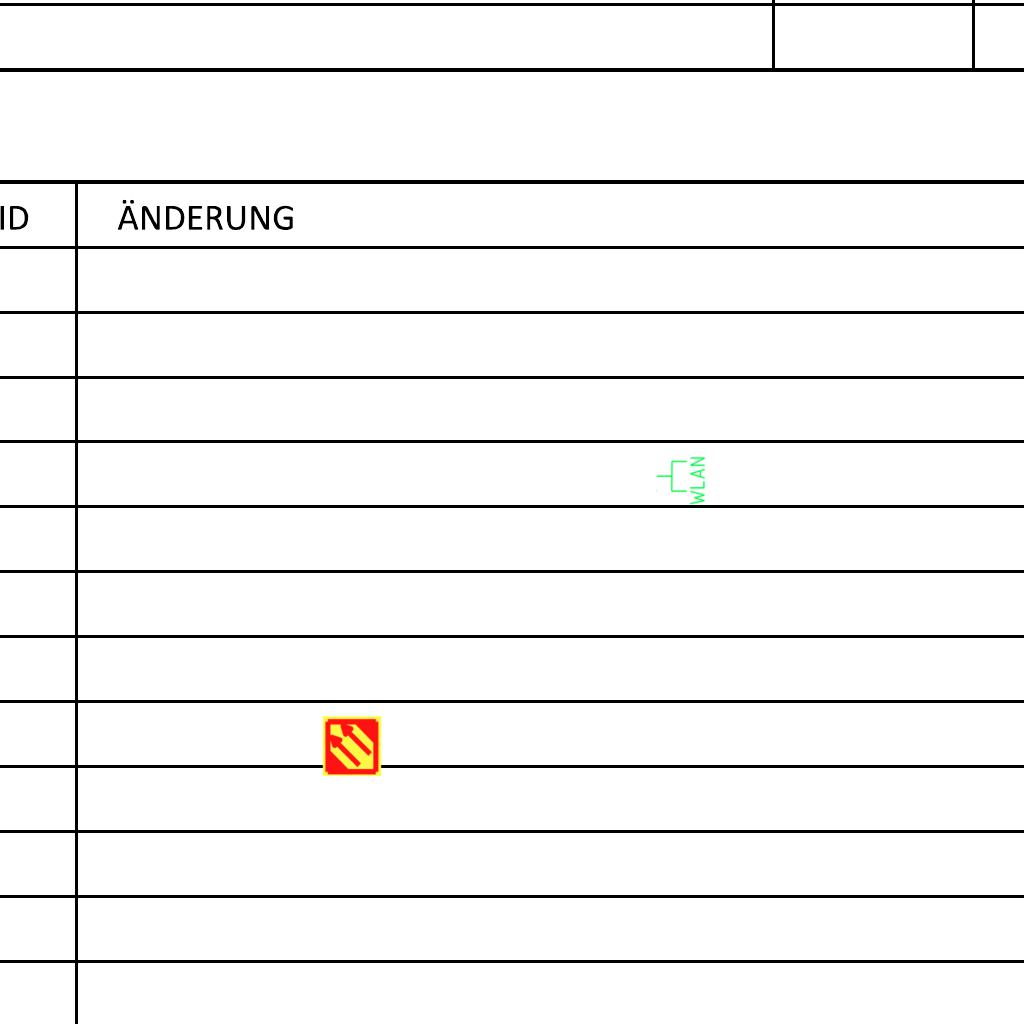ASR_Ansaugrauchmelder: (321, 715, 383, 777)
WLAN: (655, 455, 707, 507)
